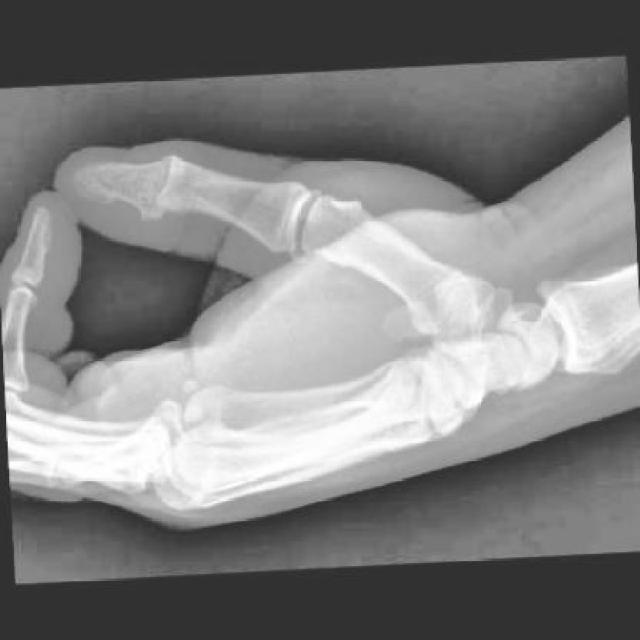Fracture: (400, 352, 483, 451)
